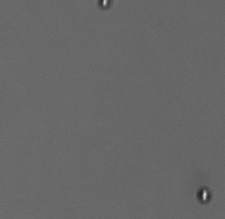Living Cell: (196, 183, 211, 204), (95, 1, 116, 10)
